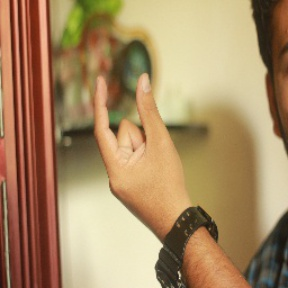U: (87, 69, 180, 207)
